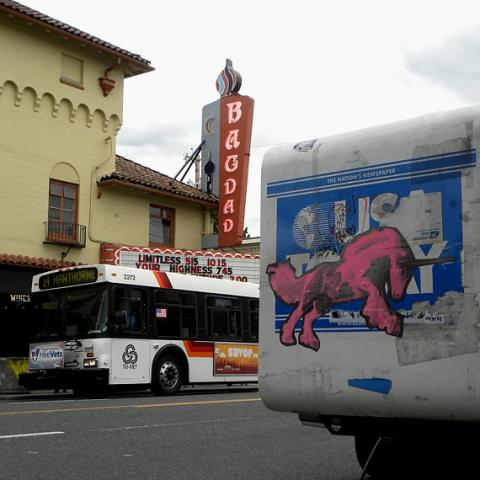bus: (24, 263, 260, 396)
truck: (255, 102, 479, 474)
